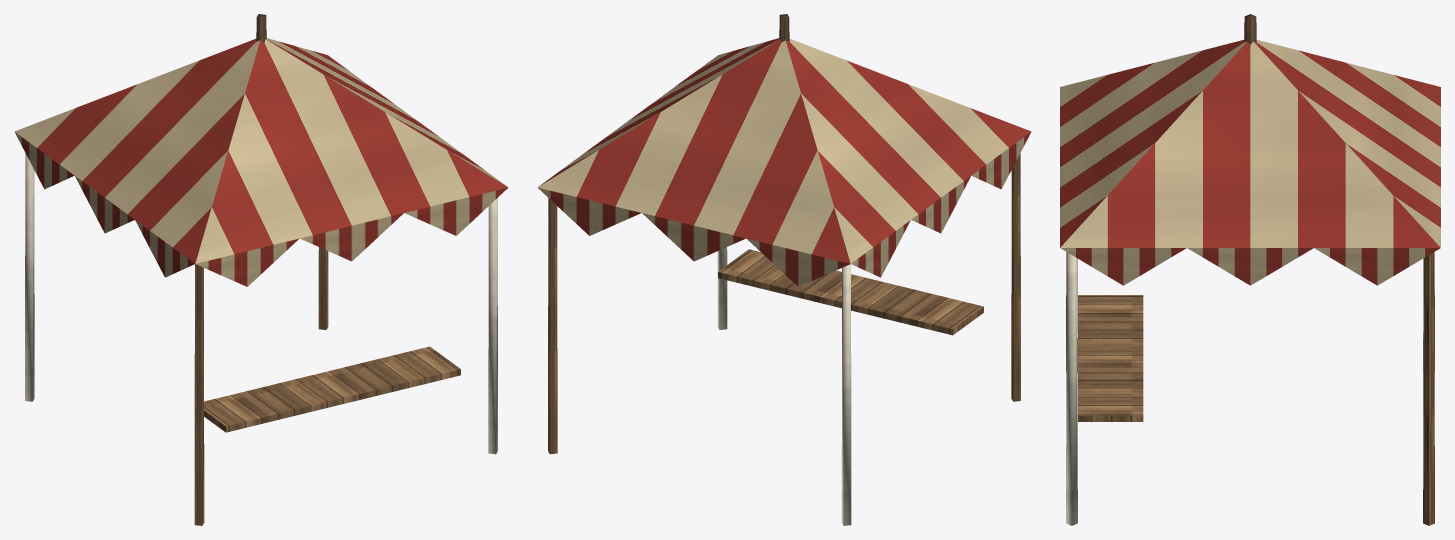
Rendered from Stall_Tent_Market_2_LOD1.gltf.
3 views of the same model, side by side, from view 1: azimuth 30°, elevation 25°; view 2: azimuth 150°, elevation 25°; view 3: azimuth 270°, elevation 25° (orthographic). The views are drawn at different scales.
Parts seen in each view (by area): view 1: Stall_Tent_Market_2_LOD1; view 2: Stall_Tent_Market_2_LOD1; view 3: Stall_Tent_Market_2_LOD1.
Part boxes in pixels (<box>): Stall_Tent_Market_2_LOD1: <box>14,14,508,525</box>; Stall_Tent_Market_2_LOD1: <box>537,14,1031,525</box>; Stall_Tent_Market_2_LOD1: <box>1060,14,1440,525</box>.
Bounding box in the file's own units: 3.2 × 4 × 3.2.
Materials: 4 (4 with a texture image).
